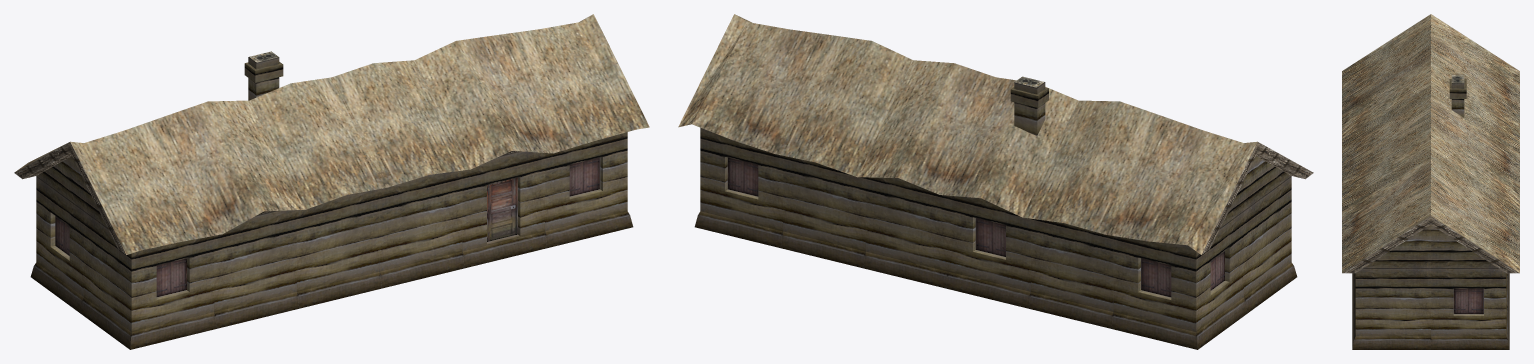
File: s44_b_house_3_3.dae
3 views of the same model, side by side, from view 1: azimuth 30°, elevation 25°; view 2: azimuth 150°, elevation 25°; view 3: azimuth 270°, elevation 25° (orthographic). The views are drawn at different scales.
Visible parts, largest first — view 1: s44_b_house_1_3; view 2: s44_b_house_1_3; view 3: s44_b_house_1_3.
Part boxes in pixels (x1,y1,x2,y2): s44_b_house_1_3: [14, 14, 649, 349]; s44_b_house_1_3: [678, 14, 1313, 349]; s44_b_house_1_3: [1342, 14, 1519, 349].
Size of the model in its own units: 152 by 56.55 by 54.08.
1 material, 1 textured.
